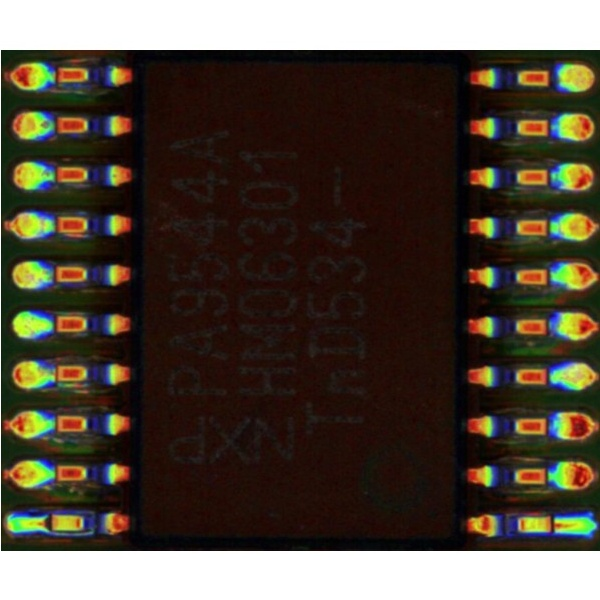Bad_podu: (31, 515, 56, 530), (541, 518, 569, 529)
Bad_qiaojiao: (49, 530, 92, 536)
